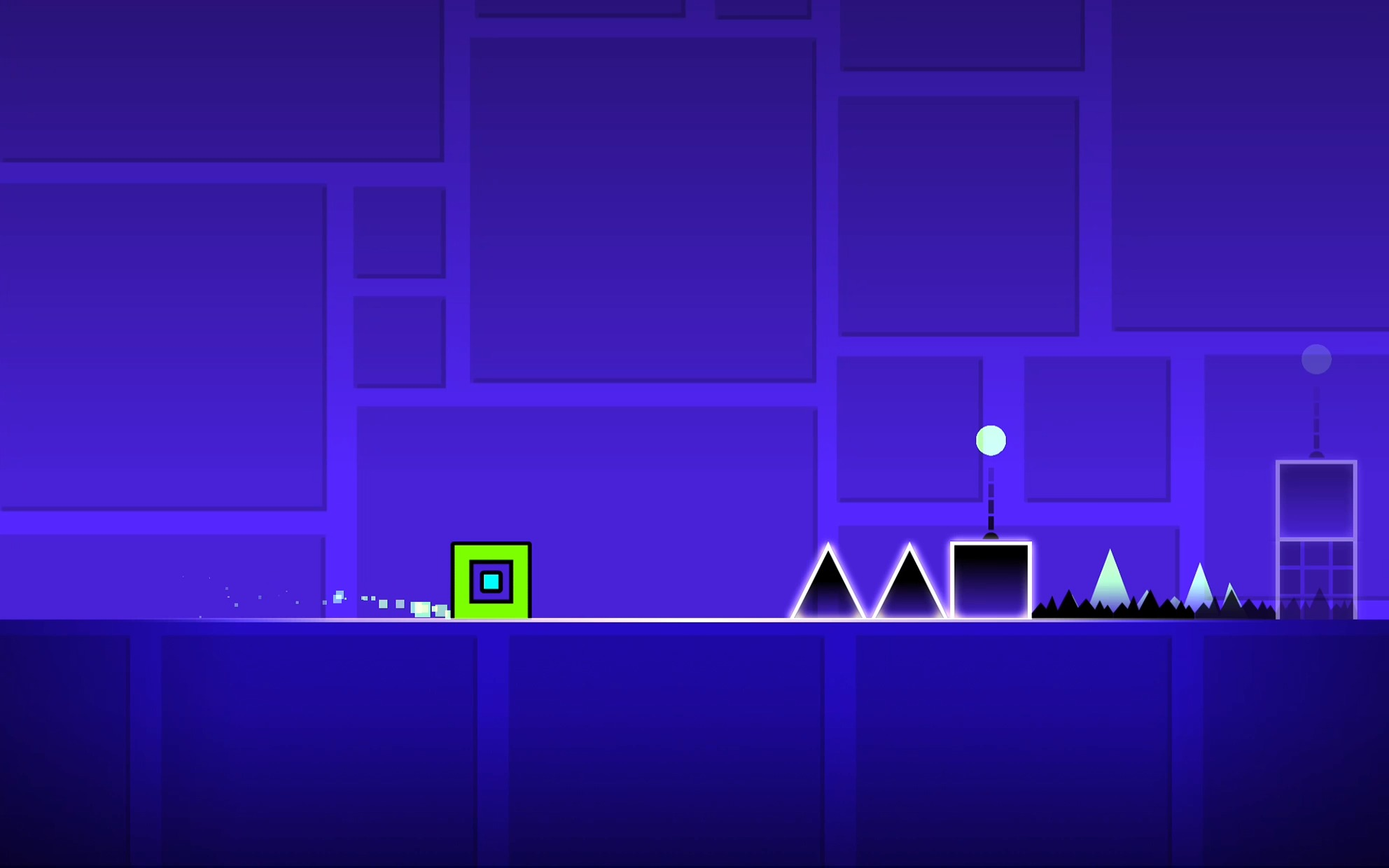Block: (949, 539, 1033, 619), (1278, 460, 1357, 538)
Block2: (1278, 538, 1354, 620)
Player: (450, 542, 532, 617)
Spike: (789, 542, 867, 617), (872, 542, 947, 617)
